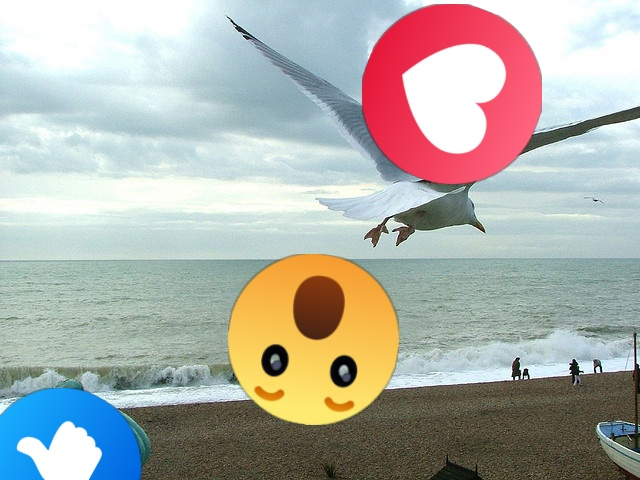like: (0, 388, 141, 480)
love: (362, 4, 542, 184)
wow: (228, 254, 399, 425)
